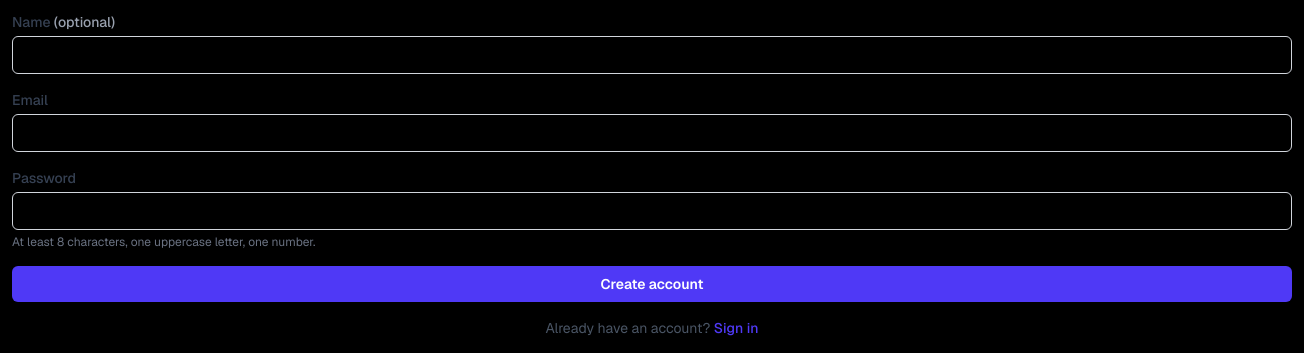
RegisterForm › disables submit button while loading
The width and height of the screenshot is (1304, 353).
Type "new@example.com" into the field labelled "Email". click: (652, 133)
box: [12, 114, 1292, 152]
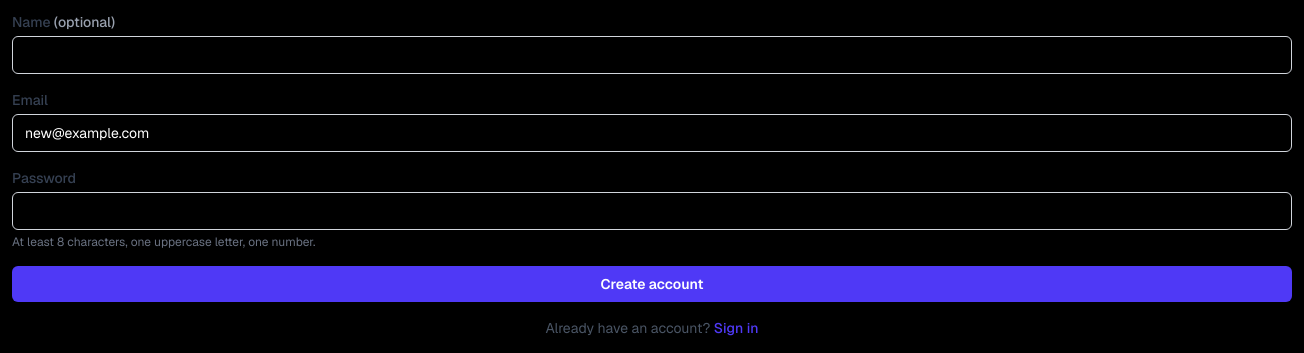
Type "SecurePass1" into the password field labelled "Password". click: (652, 211)
box: [12, 192, 1292, 230]
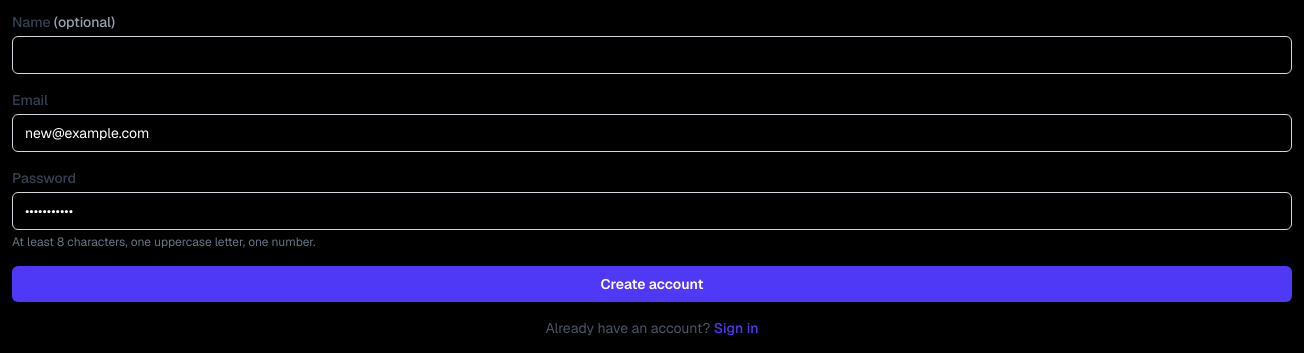
Click the button "Create account". click: click(652, 284)
box: [12, 266, 1292, 302]
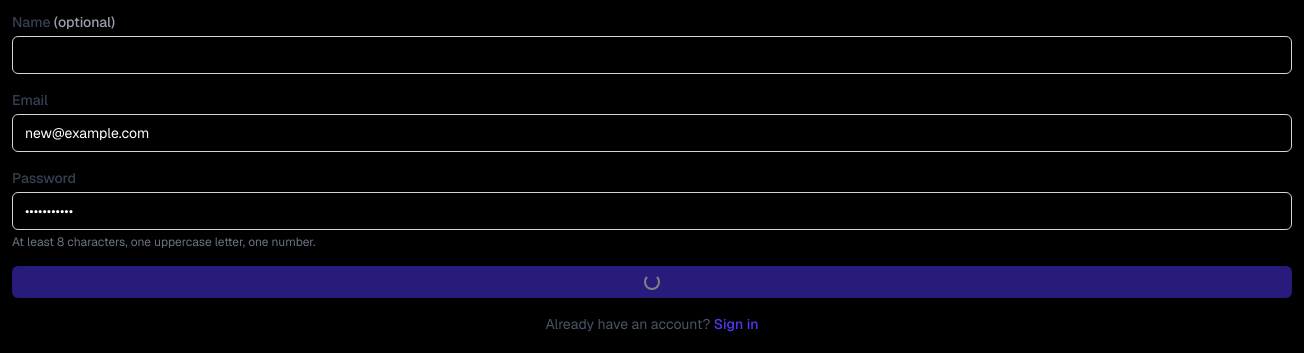
Now the button named "create account" is disabled, box [12, 266, 1292, 298]
